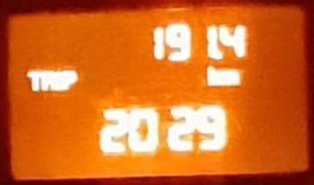-: (216, 49, 224, 60)
0: (127, 106, 160, 154)
1: (152, 25, 164, 60), (205, 24, 217, 58)
2: (97, 106, 128, 154), (166, 104, 196, 152)
4: (218, 22, 247, 58)
9: (196, 103, 227, 152), (165, 22, 191, 61)
X: (220, 67, 241, 86), (24, 69, 40, 93), (40, 68, 56, 92), (205, 63, 220, 88), (64, 68, 78, 92), (56, 67, 63, 93)
